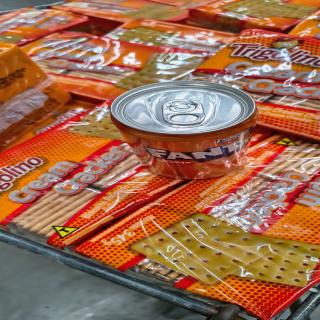beverage: (116, 80, 249, 182)
food-box: (101, 196, 310, 311), (203, 36, 320, 80), (33, 28, 130, 76)
